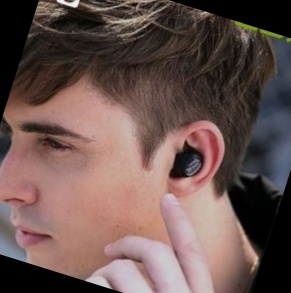earphone: (160, 113, 232, 205)
